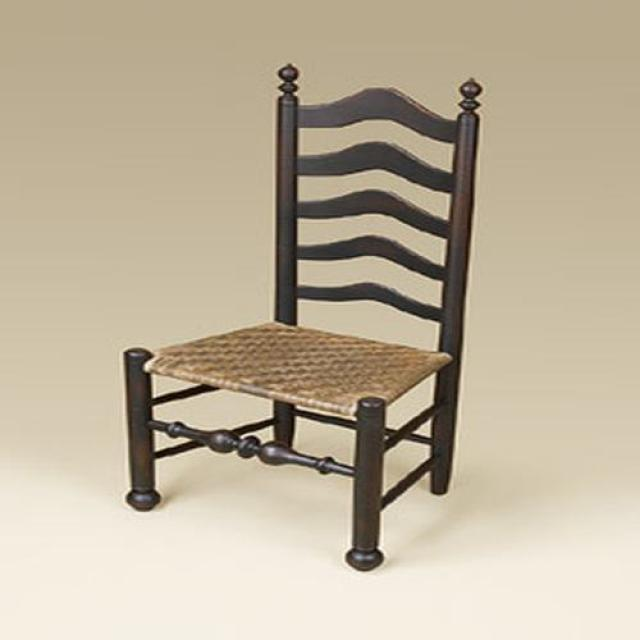chair: (123, 87, 480, 575)
